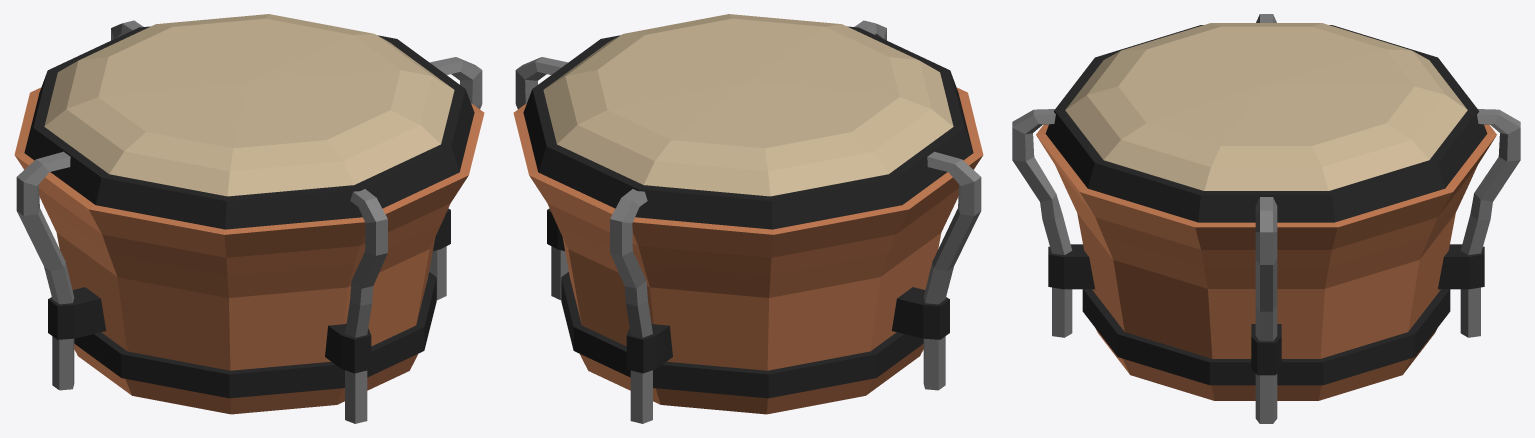
File: Int_MusicRoomBrum01_2.fbx
3 renders of one model, left to right at view 1: azimuth 30°, elevation 25°; view 2: azimuth 150°, elevation 25°; view 3: azimuth 270°, elevation 25°, orthographic. The views are drawn at different scales.
Visible parts, largest first — view 1: Int_MusicRoomBrum01_2; view 2: Int_MusicRoomBrum01_2; view 3: Int_MusicRoomBrum01_2.
Boxes of the visible parts, bbox=[...] form: Int_MusicRoomBrum01_2: bbox=[14, 14, 484, 423]; Int_MusicRoomBrum01_2: bbox=[513, 14, 983, 423]; Int_MusicRoomBrum01_2: bbox=[1012, 14, 1520, 423].
Size of what is drawn, in the model's own units: 70.73 by 70.73 by 38.23.
